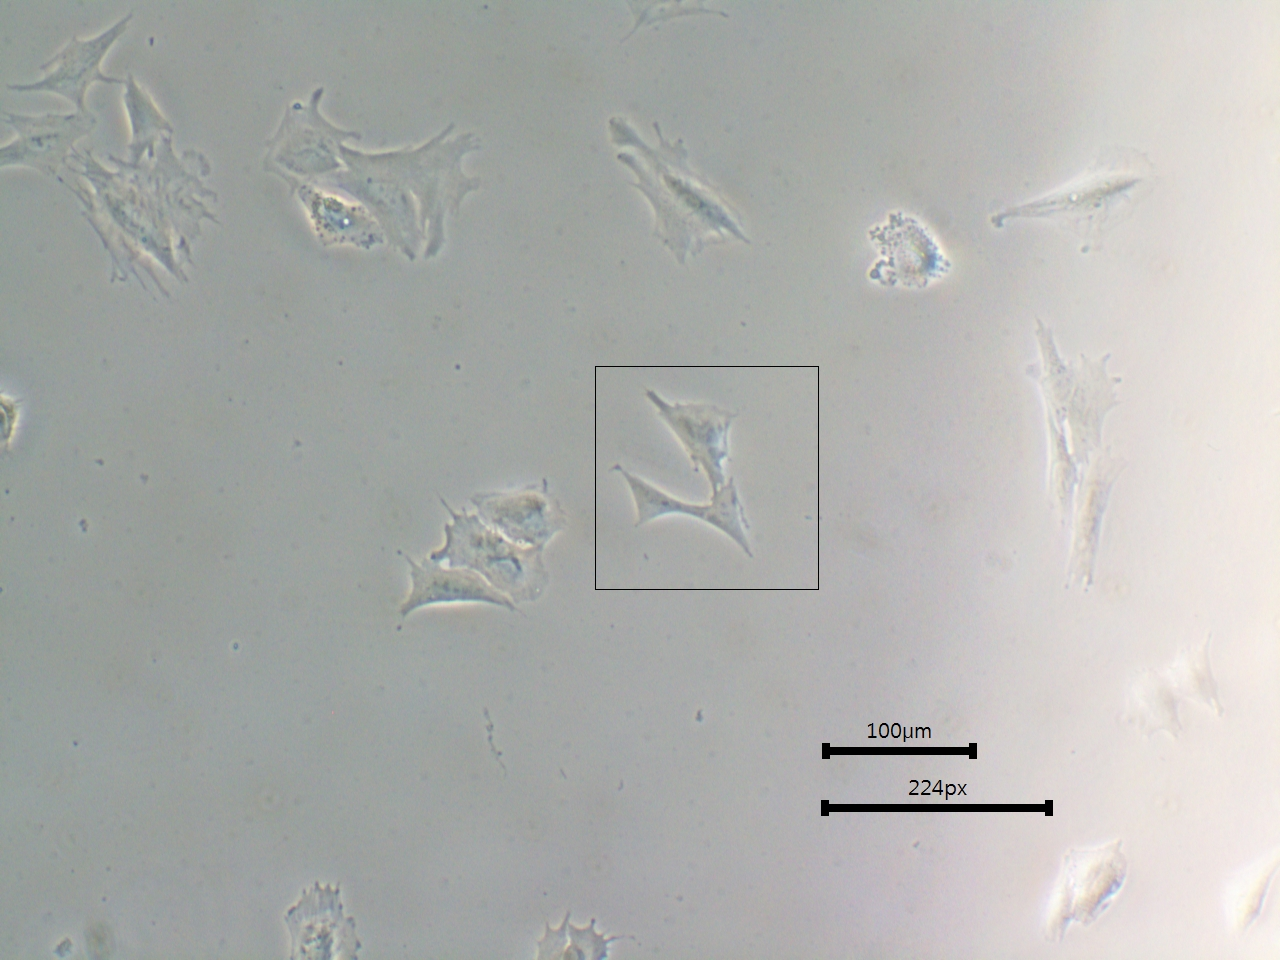medium-polygonal: (603, 110, 760, 271), (978, 146, 1173, 271)
small-polygonal: (1070, 452, 1128, 592), (651, 392, 735, 484), (400, 563, 500, 614)
small-spread: (265, 98, 341, 194), (472, 488, 567, 546)
